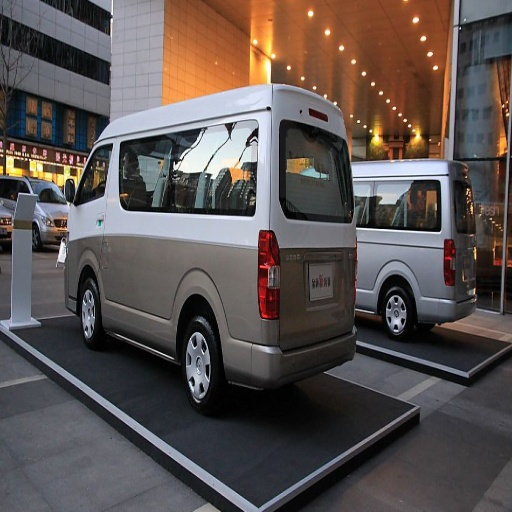back_bumper: (237, 339, 345, 388)
back_left_light: (258, 231, 276, 319)
trunk: (126, 215, 456, 369)
